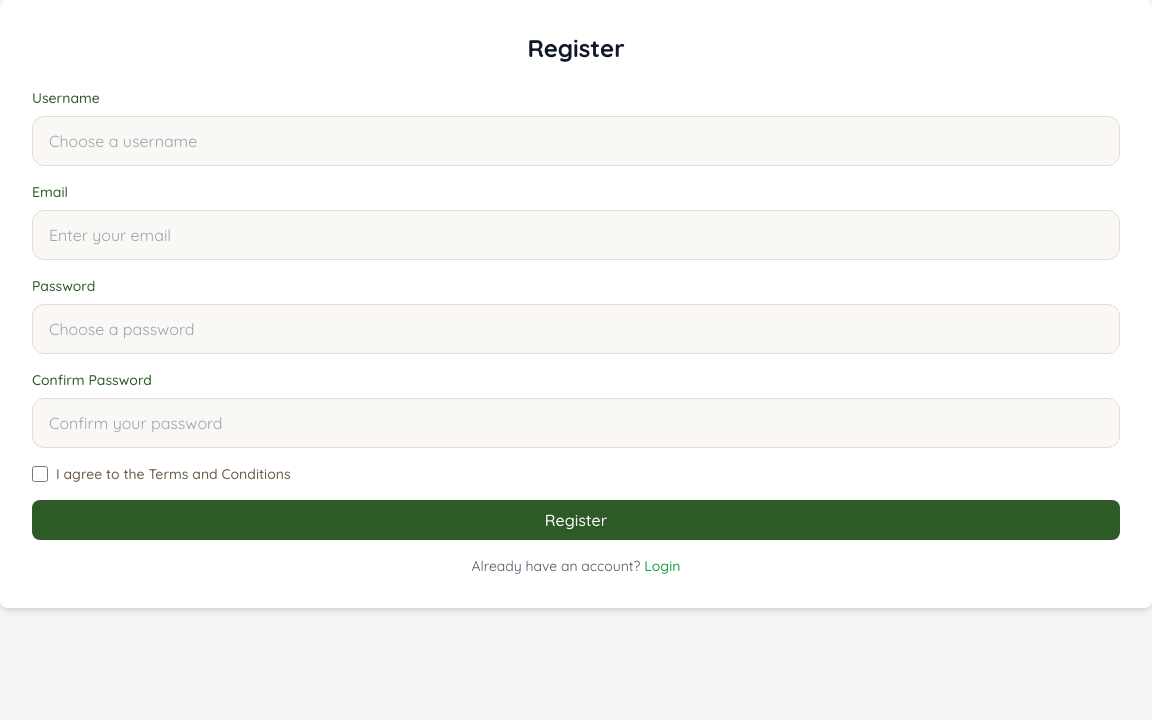
RegisterForm Component › should show validation errors for empty fields
This screenshot has width=1152, height=720.
What coordinates should you click on to do the following:
click the button "Register"
I would click on:
 (576, 520)
Its box is left=32, top=500, right=1120, bottom=540.
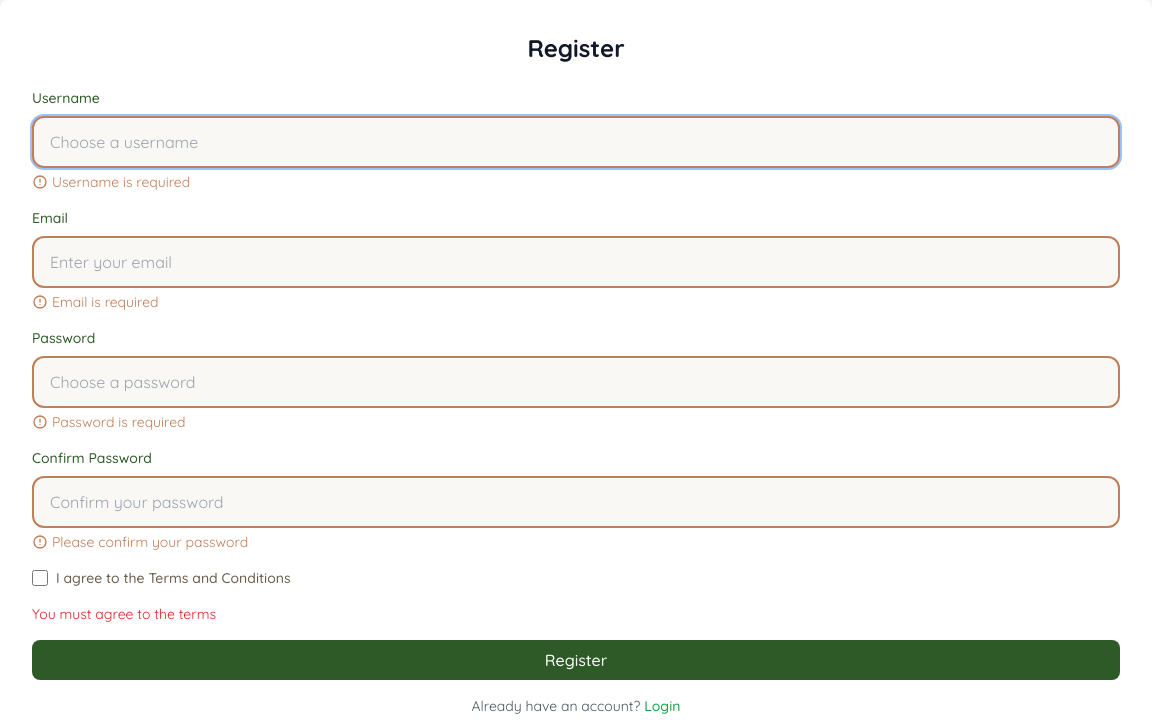
Now the text "Username is required" is shown, box left=32, top=173, right=190, bottom=191
Now the text "Email is required" is shown, box left=32, top=293, right=158, bottom=311
Now the text "Password is required" is shown, box left=32, top=413, right=186, bottom=431
